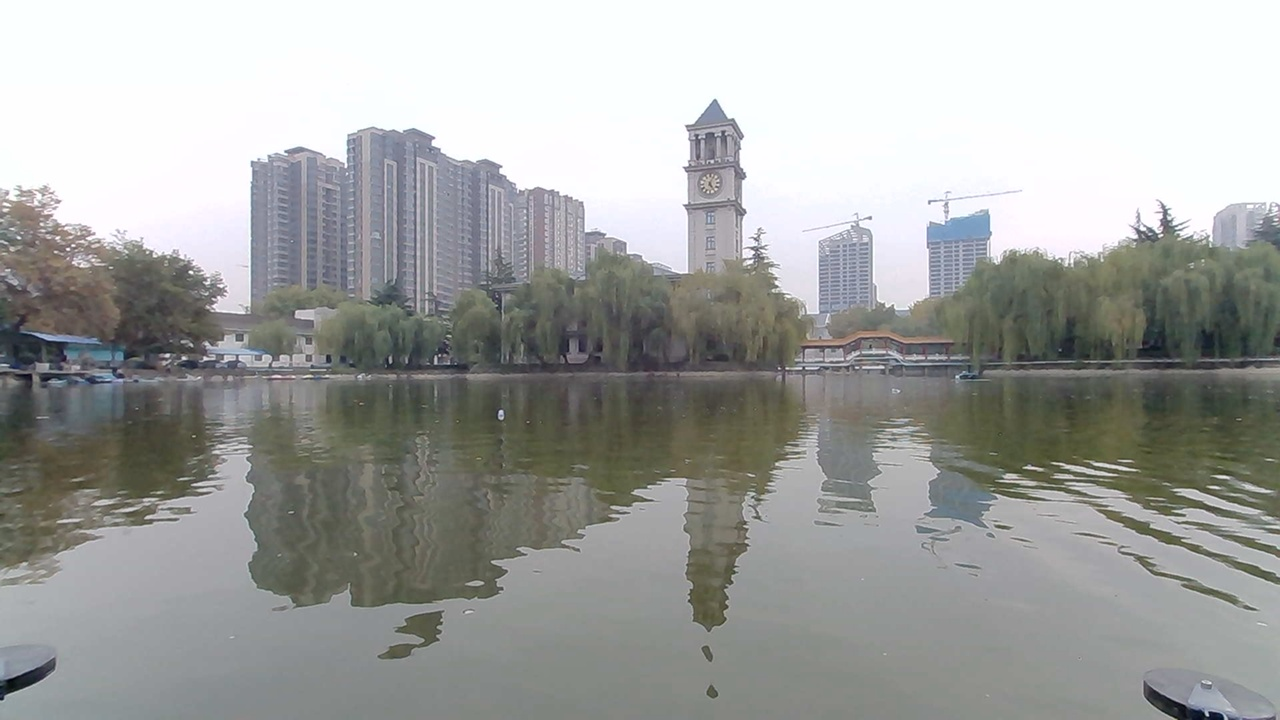bottle: (468, 399, 520, 431), (882, 381, 914, 400)
